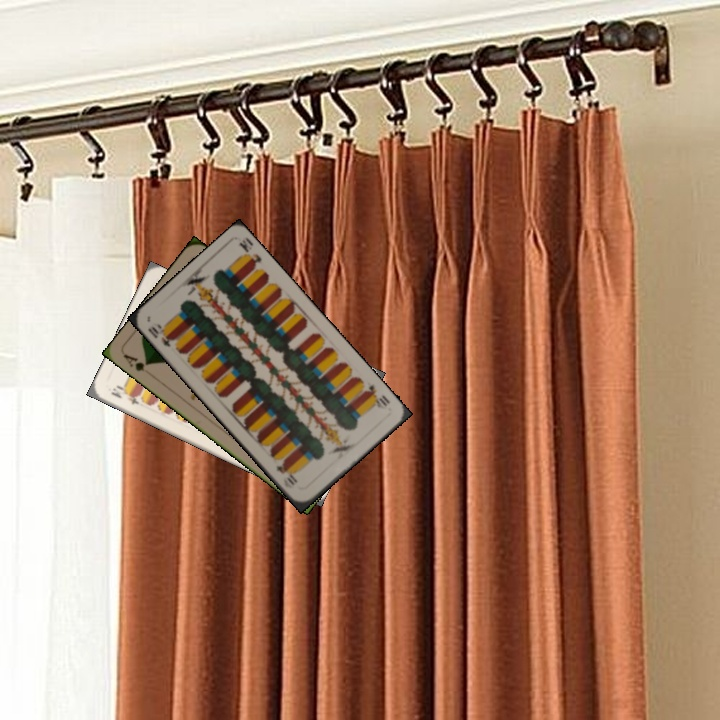E10: (360, 381, 393, 412), (144, 319, 177, 349), (107, 383, 142, 407)
GA: (120, 350, 153, 374)
